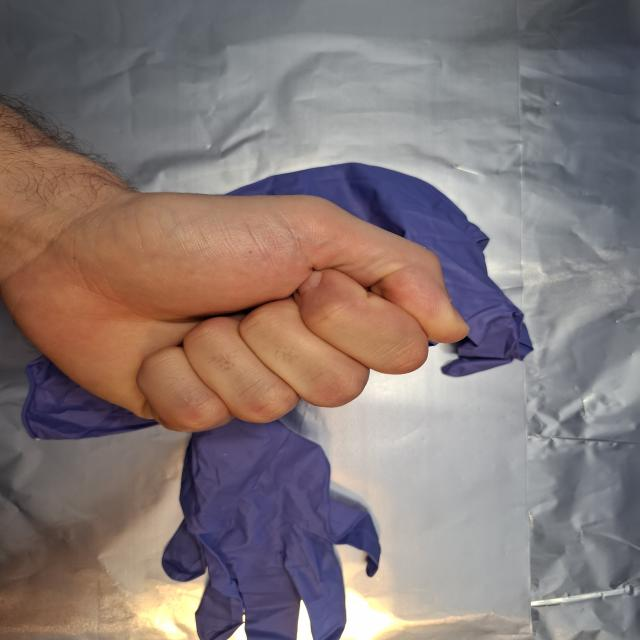glove_off: (0, 191, 473, 436)
